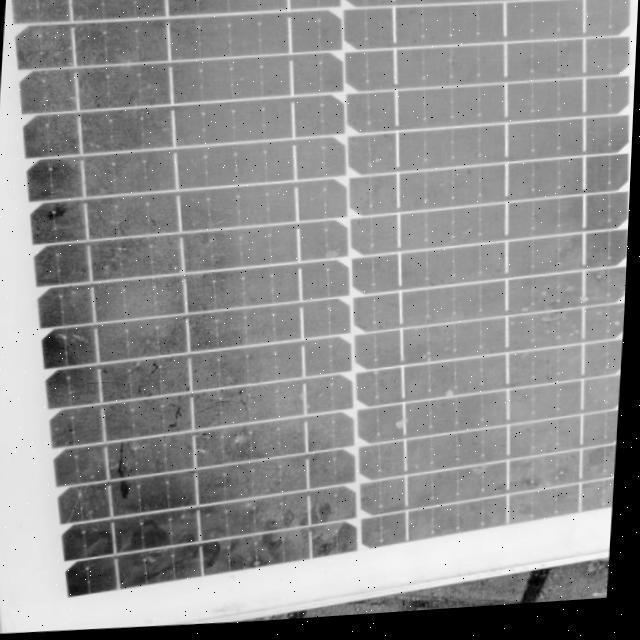Surface Contaminant: (45, 0, 639, 566)
